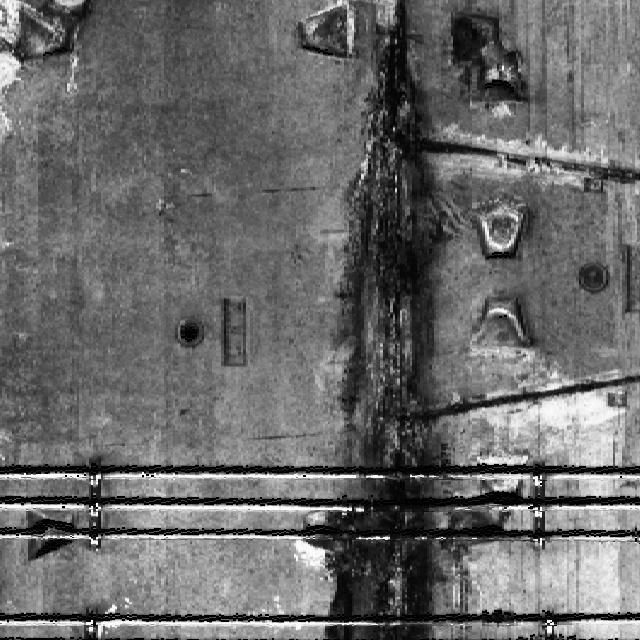leakage: (301, 1, 482, 639)
